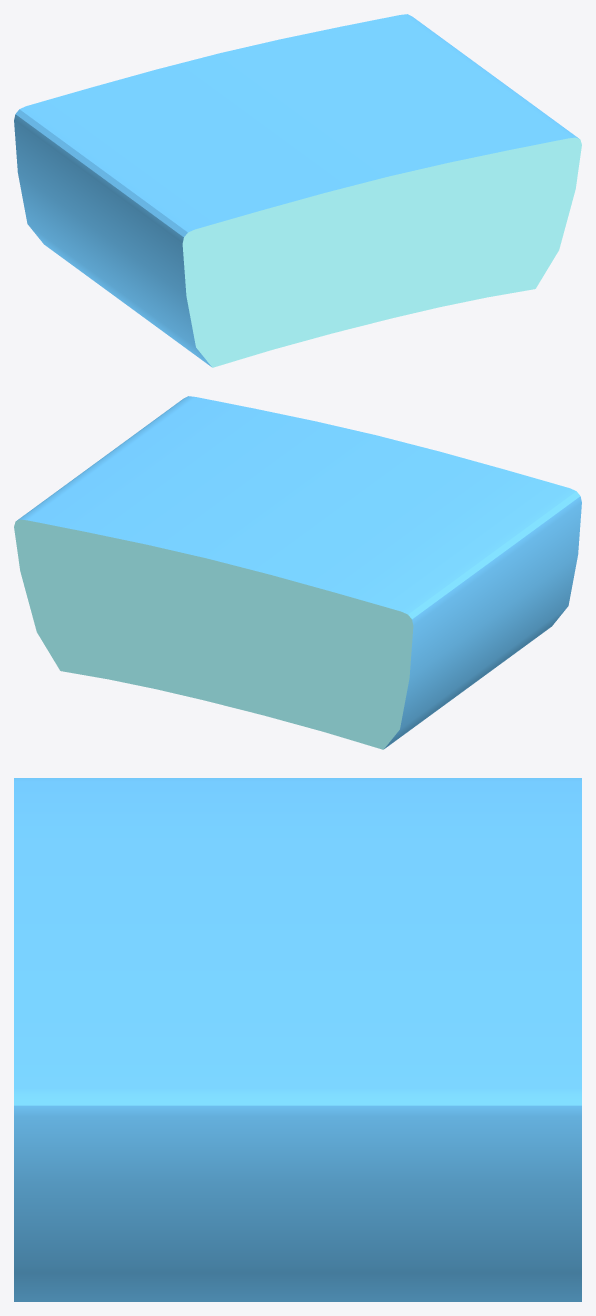
3 renders of one model, top to bottom at view 1: azimuth 30°, elevation 25°; view 2: azimuth 150°, elevation 25°; view 3: azimuth 270°, elevation 25°, orthographic. The views are drawn at different scales.
Visible parts, largest first — view 1: -; view 2: -; view 3: -.
Boxes of the visible parts, x1=… form: -: x1=14, y1=14, x2=581, y2=367; -: x1=14, y1=396, x2=581, y2=749; -: x1=14, y1=778, x2=581, y2=1301.
Size of what is drawn, in the model's own units: 0.2462 by 0.0874 by 0.18.
